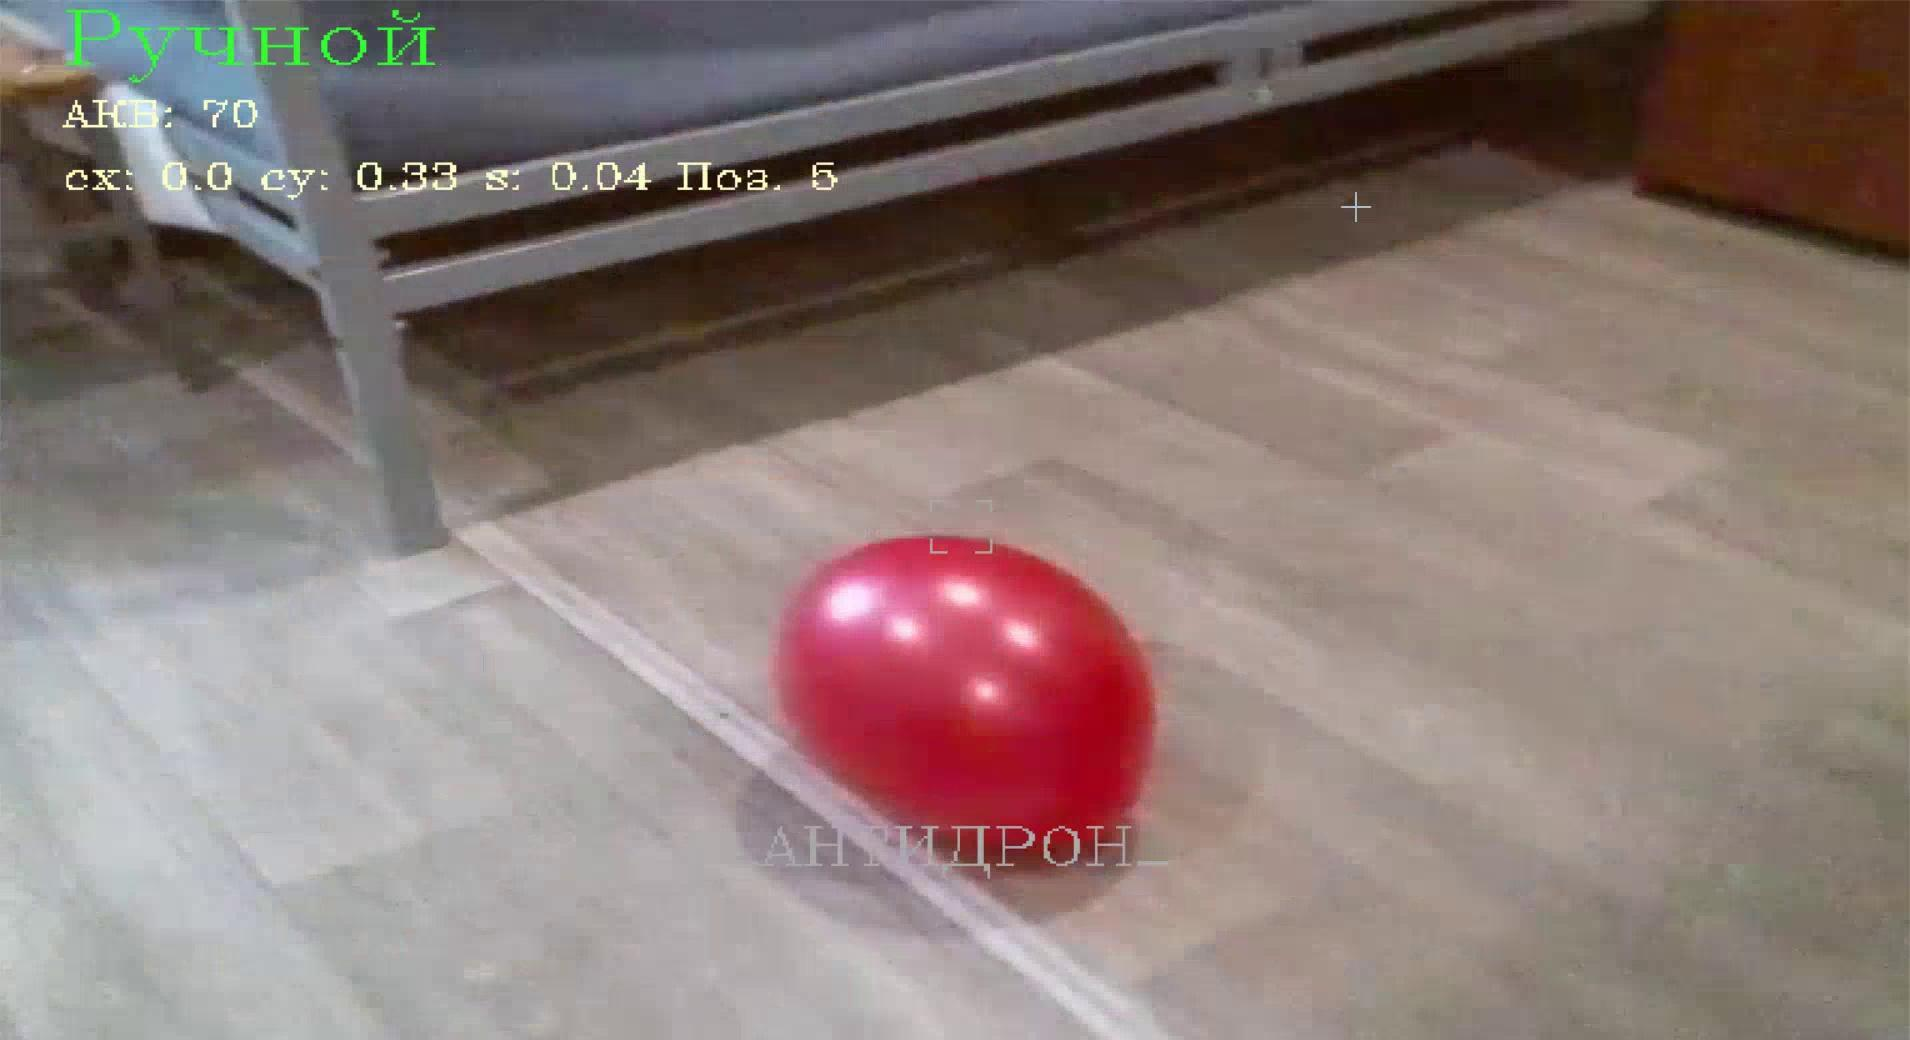red: (769, 525, 1159, 853)
